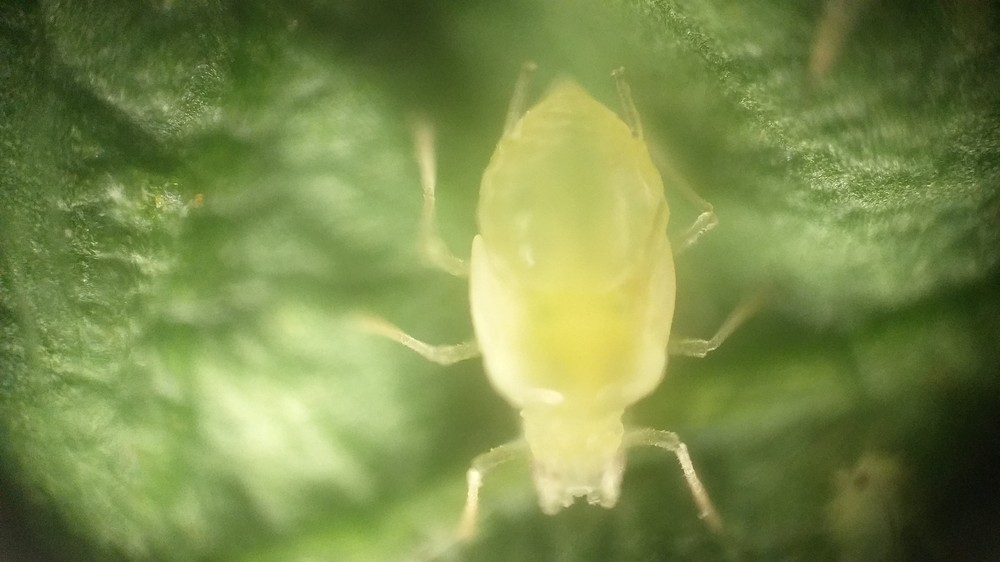Pulgon: (354, 42, 763, 544)
